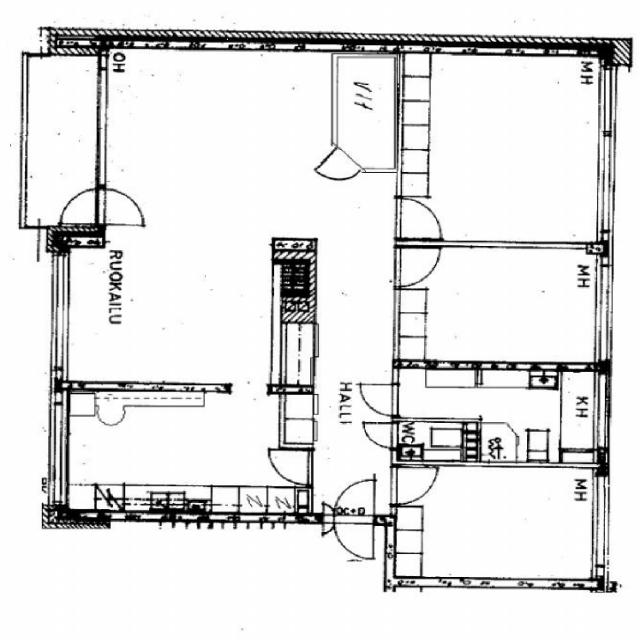door: (311, 144, 362, 193), (334, 474, 376, 524), (334, 512, 376, 562), (390, 195, 438, 236), (390, 469, 434, 506), (390, 250, 433, 286), (61, 190, 106, 223), (96, 190, 140, 223), (272, 452, 312, 485), (360, 384, 395, 414), (362, 422, 395, 449), (321, 500, 334, 524), (321, 513, 334, 536)
